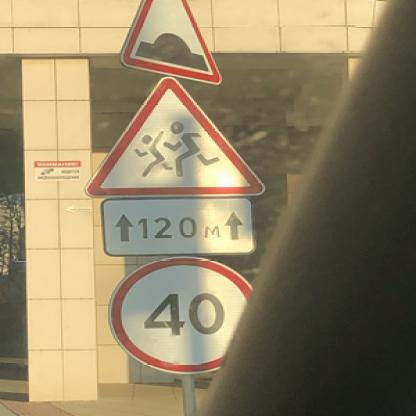speedlimit: (106, 256, 250, 372)
